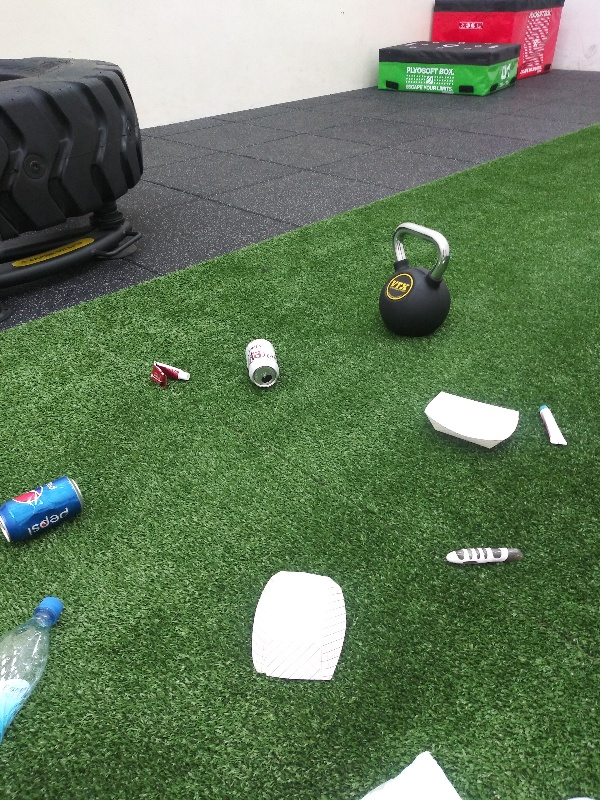bottle: (1, 584, 71, 753)
can: (1, 469, 91, 548), (239, 337, 281, 391)
plate: (248, 569, 346, 687), (419, 387, 528, 454)
